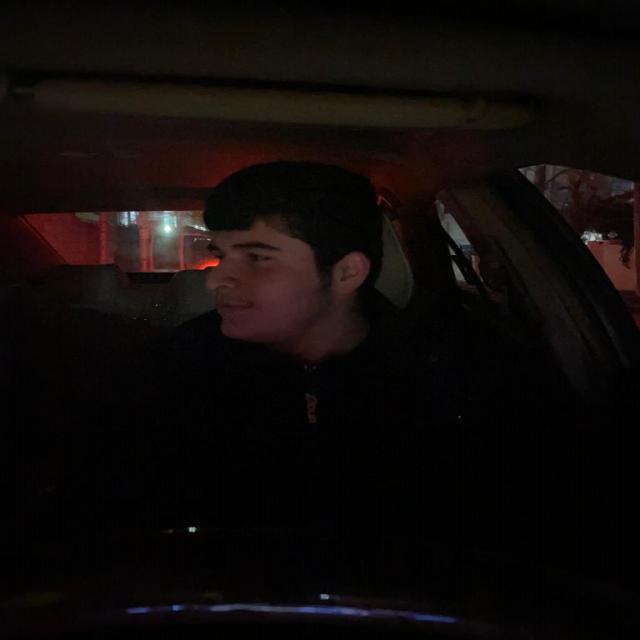LeftRight: (194, 165, 390, 372)
